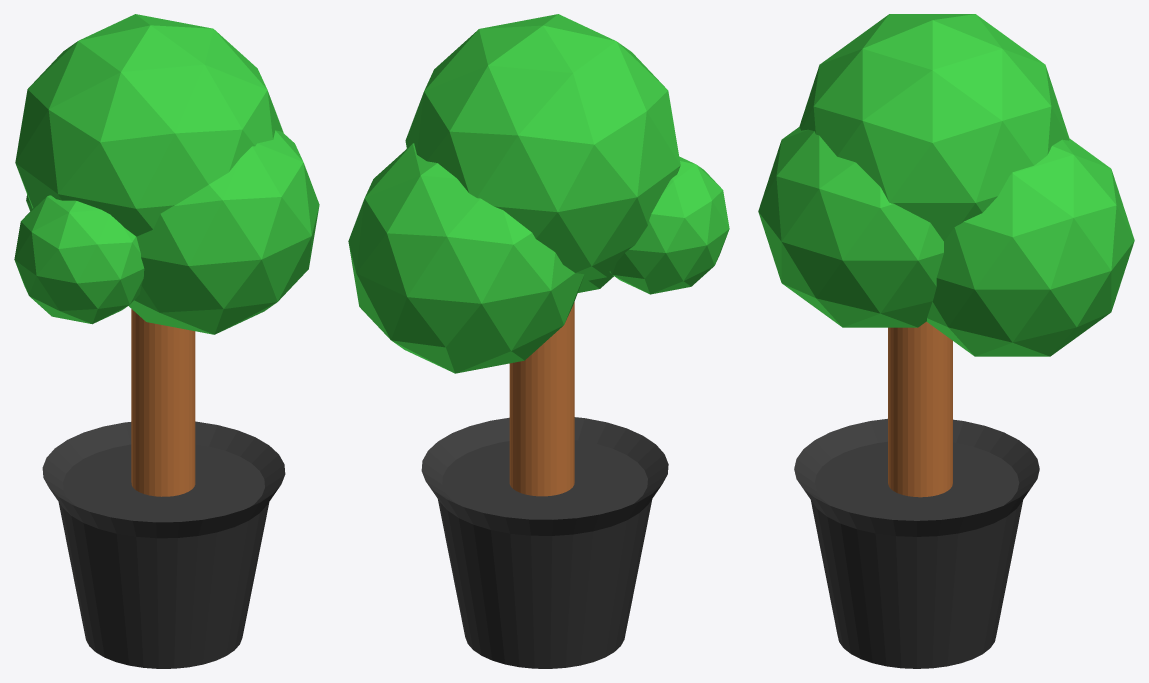
File: ForestCreator.fbx
3 renders of one model, left to right at view 1: azimuth 30°, elevation 25°; view 2: azimuth 150°, elevation 25°; view 3: azimuth 270°, elevation 25°, orthographic.
Visible parts, largest first — view 1: Cylinder.002; view 2: Cylinder.002; view 3: Cylinder.002.
Part boxes in pixels (x1,y1,x2,y2): Cylinder.002: (14, 14, 319, 668); Cylinder.002: (348, 14, 729, 668); Cylinder.002: (758, 14, 1134, 668).
Bounding box in the file's own units: 97.64 × 201 × 112.
